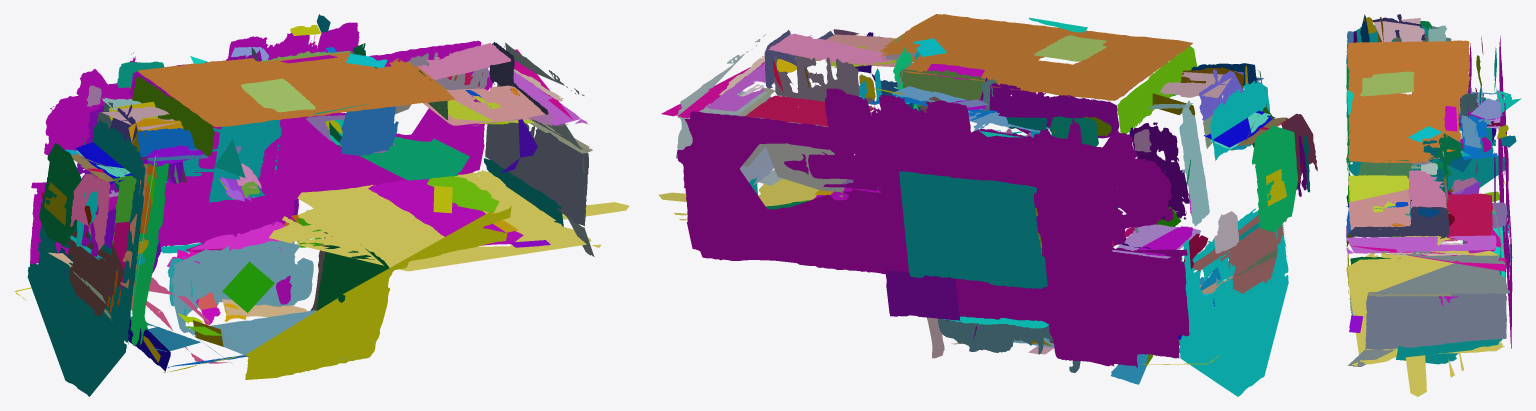
File: neuralplane_scene057.glb
The picture shows the model from 3 angles, left to right: view 1: azimuth 30°, elevation 25°; view 2: azimuth 150°, elevation 25°; view 3: azimuth 270°, elevation 25°; orthographic projection. The views are drawn at different scales.
Bounding box in the file's own units: 8.6 × 4.16 × 2.8.
